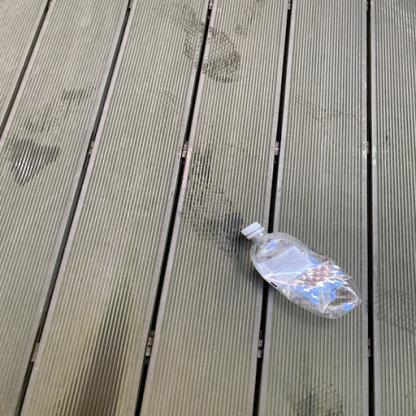trash: (238, 219, 367, 323)
